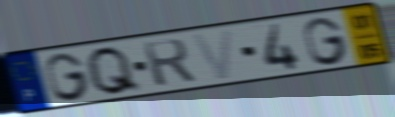4: (262, 21, 301, 73)
G: (301, 15, 351, 67), (43, 51, 92, 103)
Q: (84, 44, 145, 97)
R: (140, 37, 199, 89)
V: (188, 27, 235, 82)
